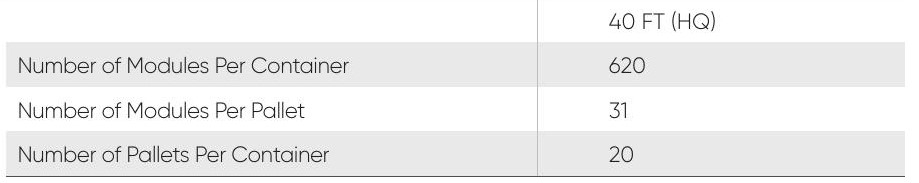table: (1, 2, 919, 183)
table column: (15, 3, 527, 180), (548, 3, 897, 179)
table row: (8, 91, 908, 130), (9, 136, 907, 175), (8, 5, 904, 43), (10, 48, 905, 86)
